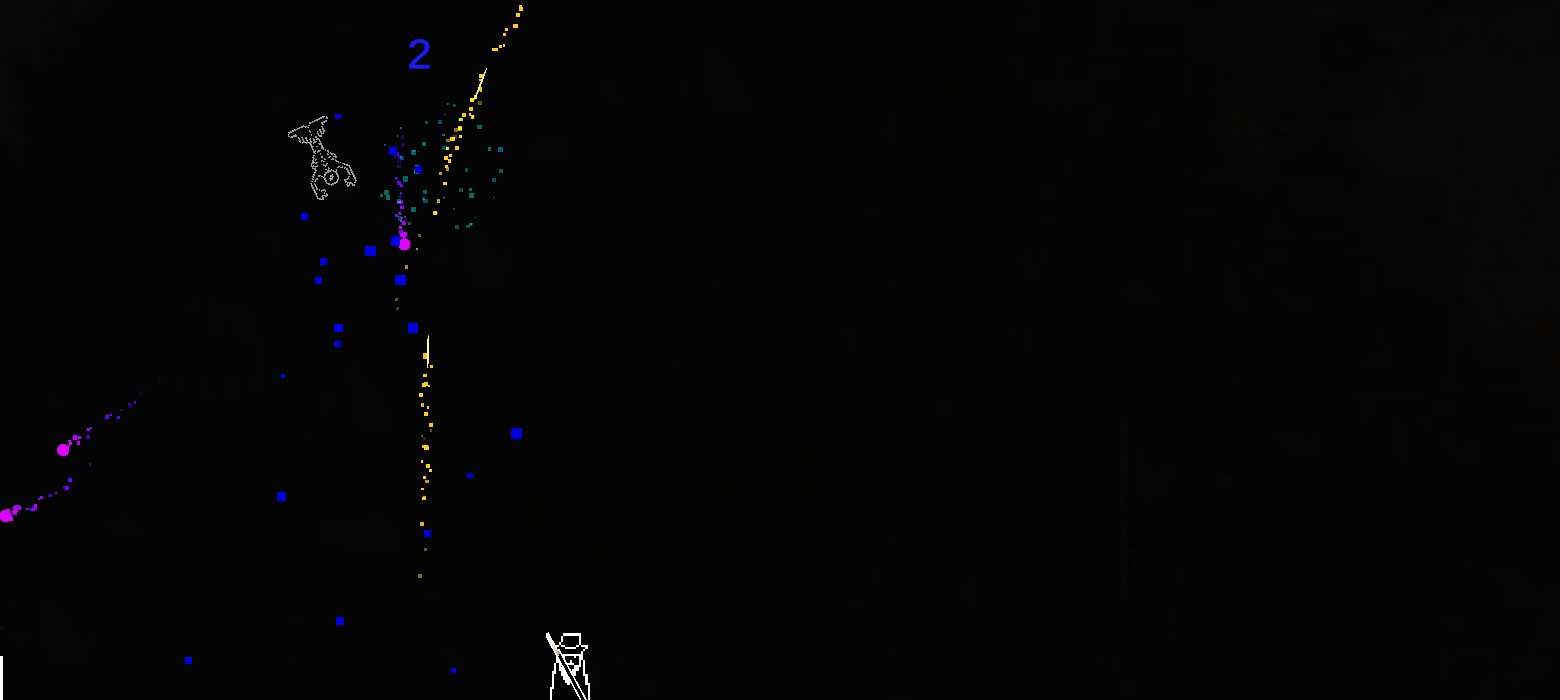enemy: (288, 116, 357, 200)
